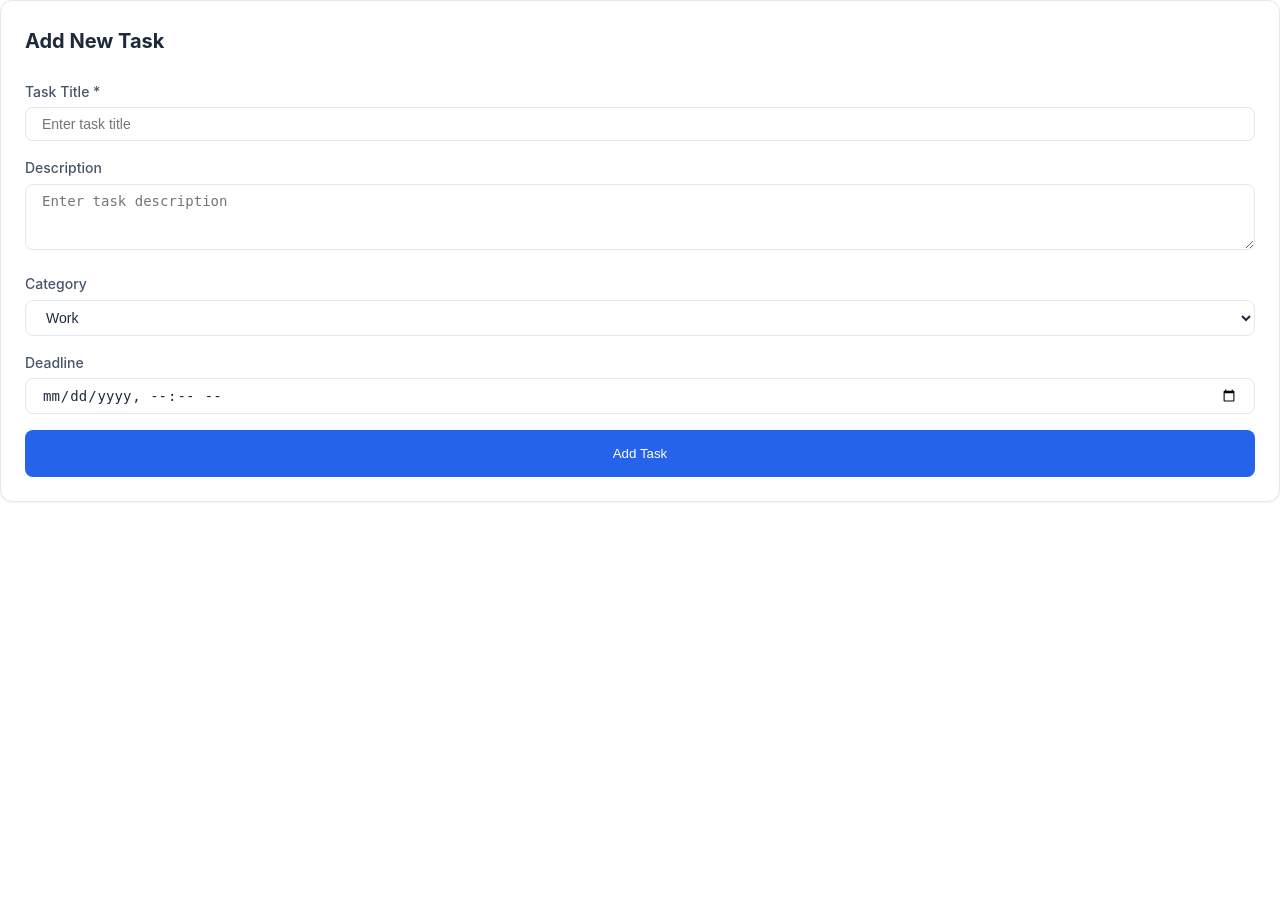
Test: AddTaskForm › shows error when deadline is in the past
# Fill form with past deadline
In the field labelled "Task Title *": (640, 124) [25,107,1255,141], type "Test Task"
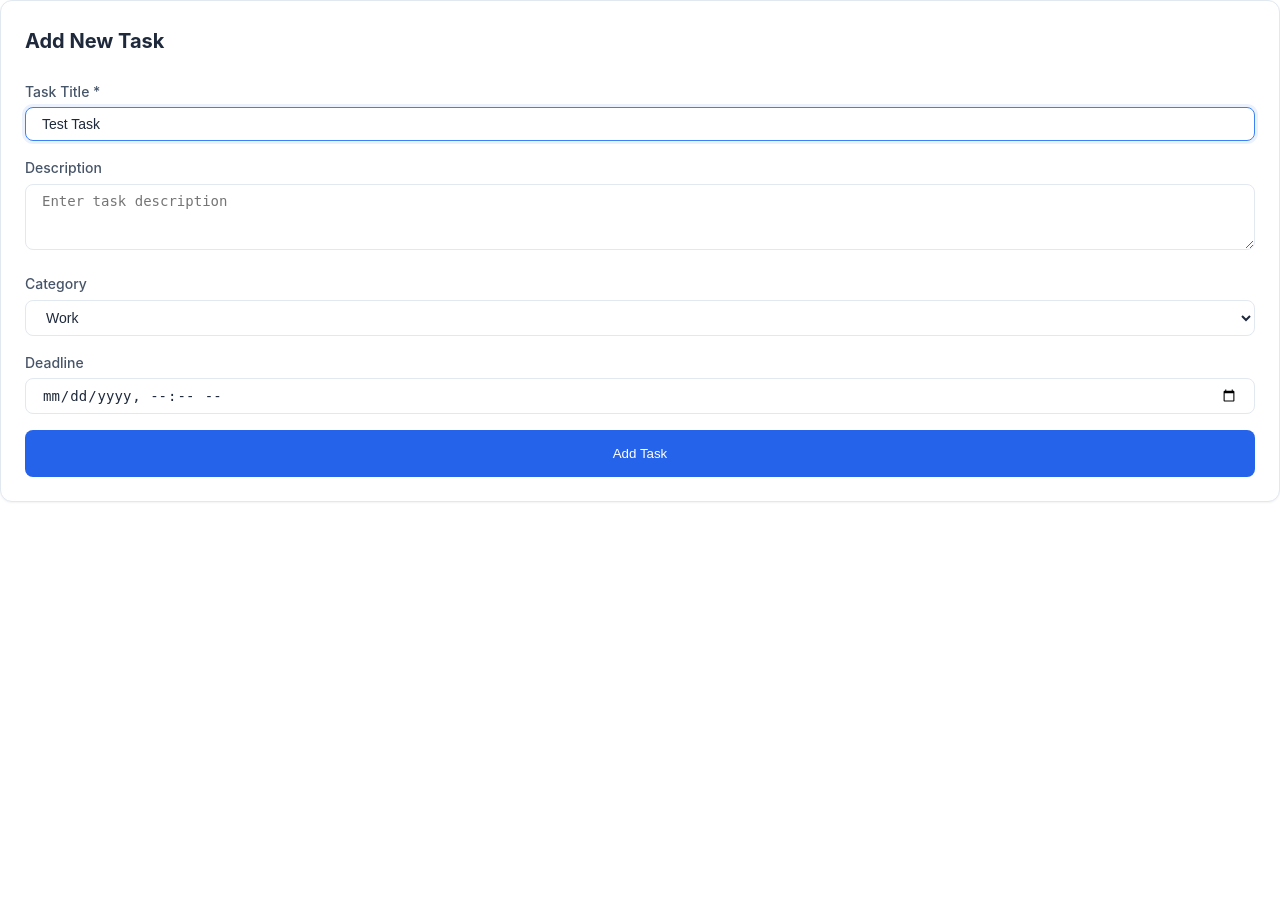
In the field labelled "Deadline": (640, 396) [25,378,1255,414], type "2020-01-01T00:00"
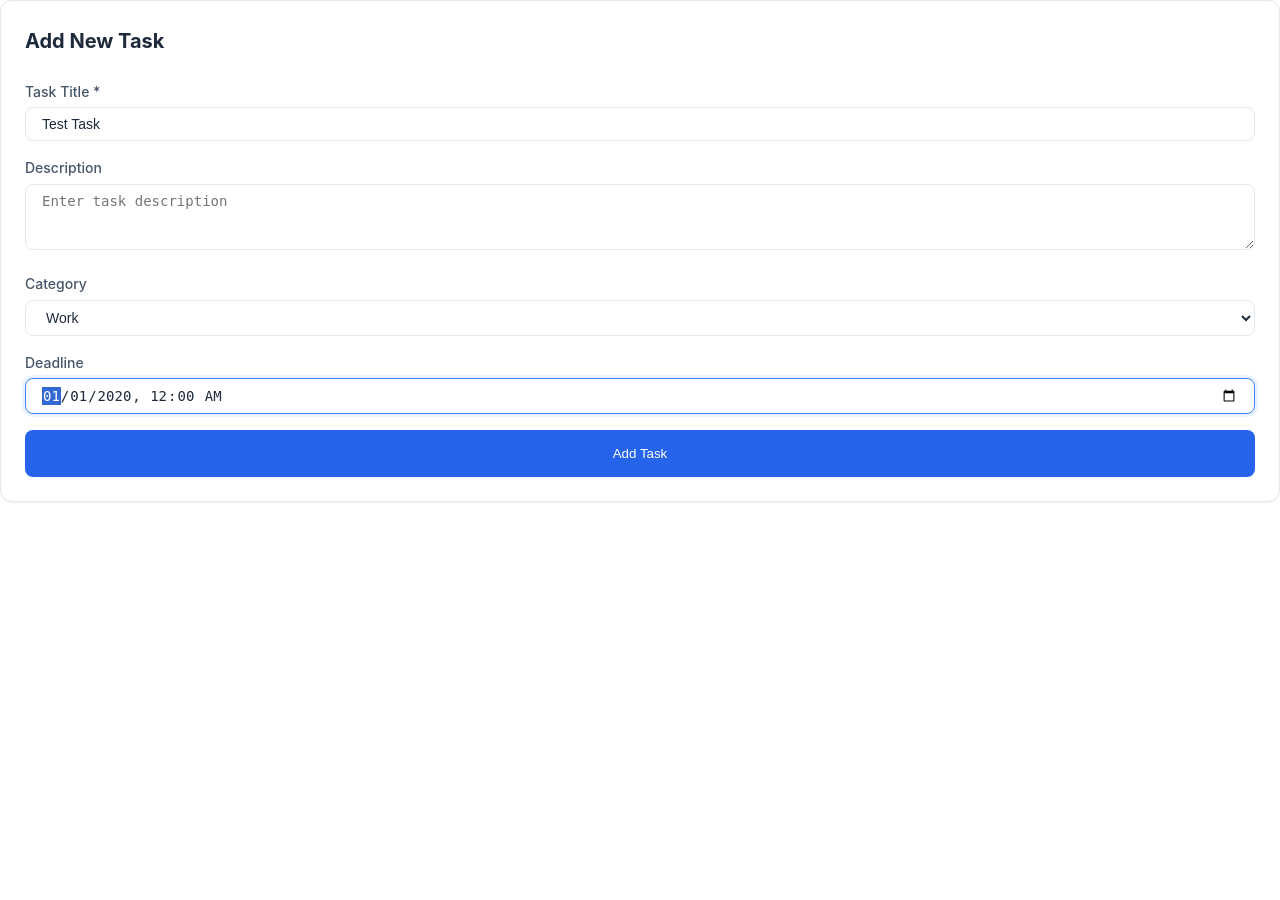
Click the button "Add Task": (640, 454) [25,430,1255,477]
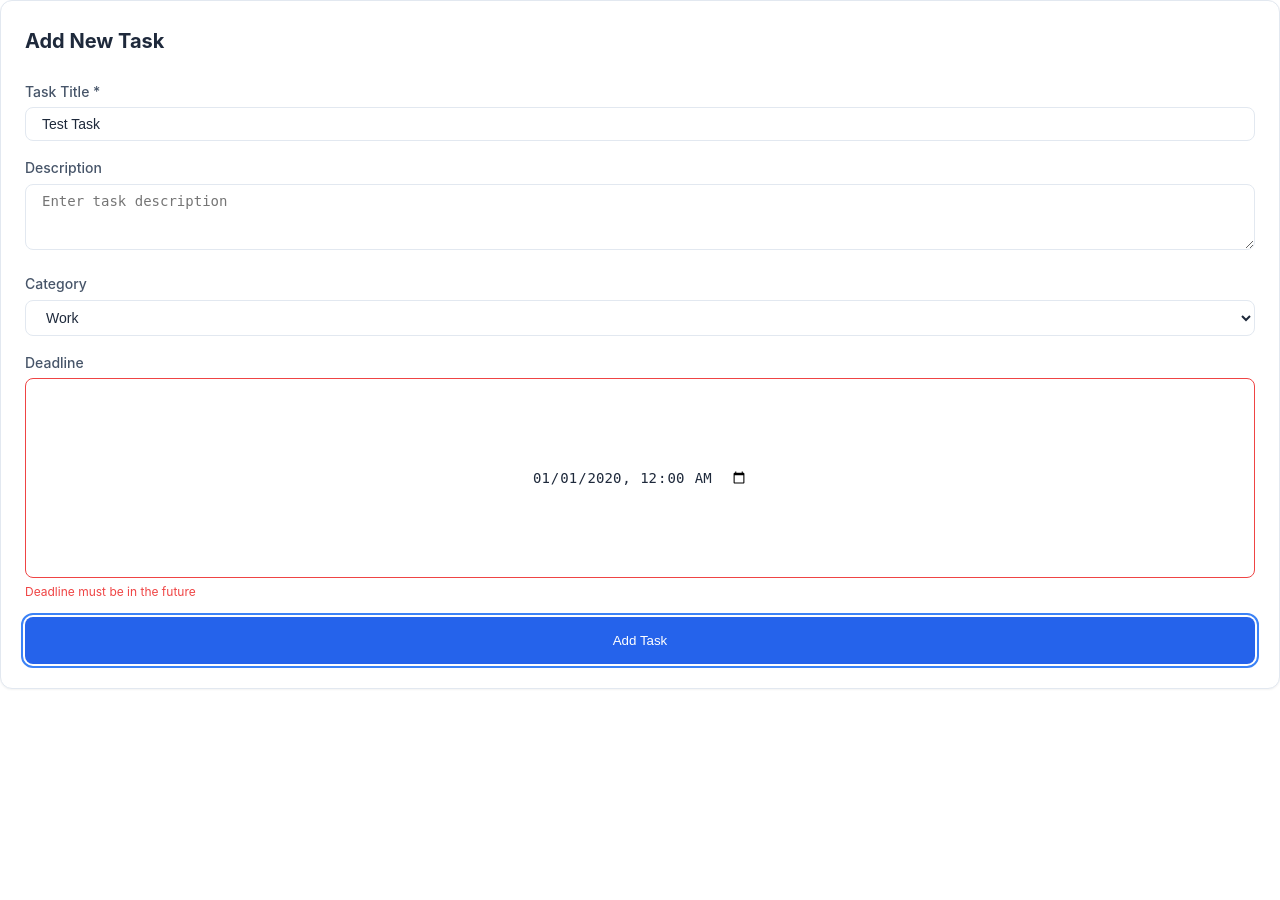
Result: the text "Deadline must be in the future" is shown at [25,584,196,599]
